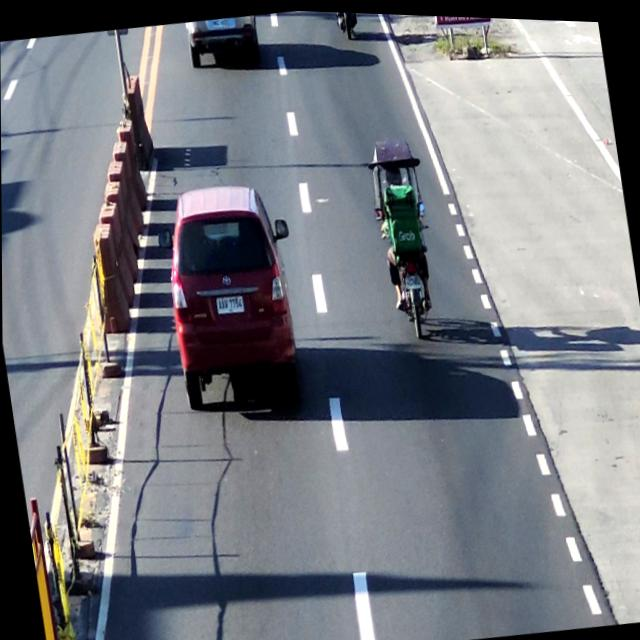Car: (161, 179, 308, 418), (183, 11, 263, 69)
License-Plate: (211, 290, 251, 325), (401, 267, 428, 294)
Motorcycle: (370, 142, 443, 343)
